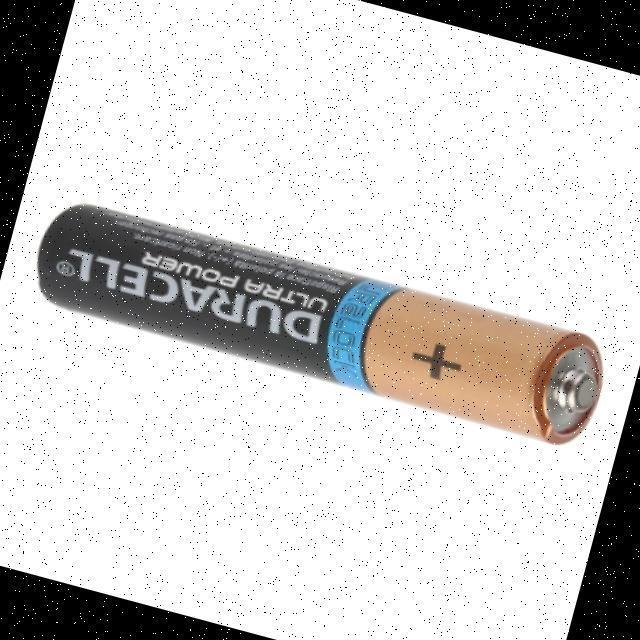AAA: (36, 202, 603, 445)
